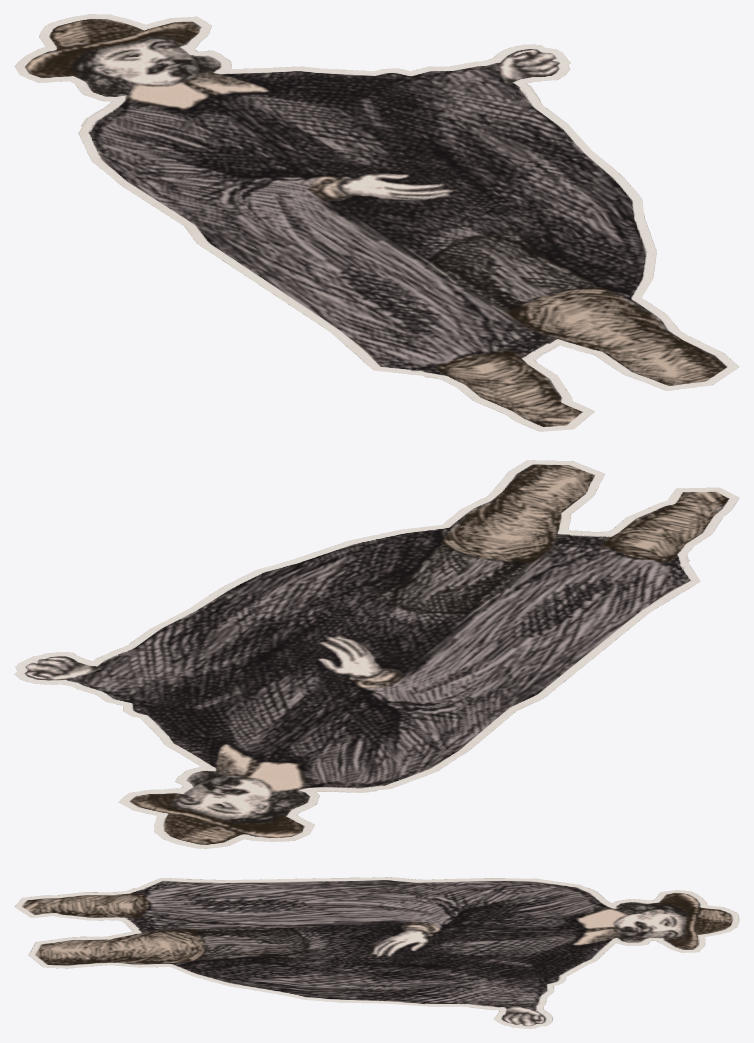
File: joseph.fbx
The picture shows the model from 3 angles, top to bottom: view 1: azimuth 30°, elevation 25°; view 2: azimuth 150°, elevation 25°; view 3: azimuth 270°, elevation 25°; orthographic projection. The views are drawn at different scales.
Parts seen in each view (by area): view 1: BézierCurve; view 2: BézierCurve; view 3: BézierCurve.
Boxes of the visible parts, x1,y1,x2,y2 form: BézierCurve: [14, 14, 738, 431]; BézierCurve: [14, 460, 739, 848]; BézierCurve: [14, 877, 739, 1028].
Bounding box in the file's own units: 245 × 8.07e-05 × 496.
